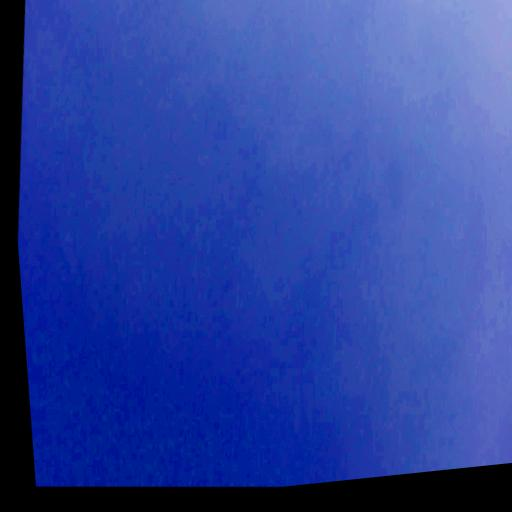drones: (236, 125, 241, 132)
